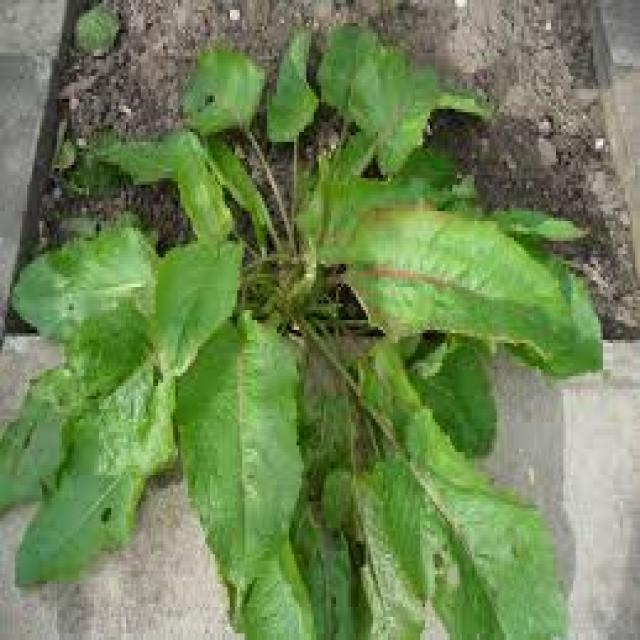organic waste: (12, 6, 617, 640)
